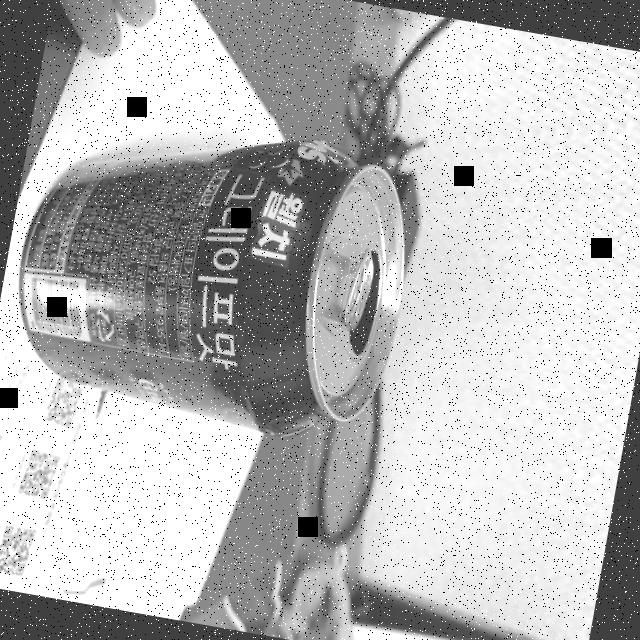can: (1, 90, 430, 452)
